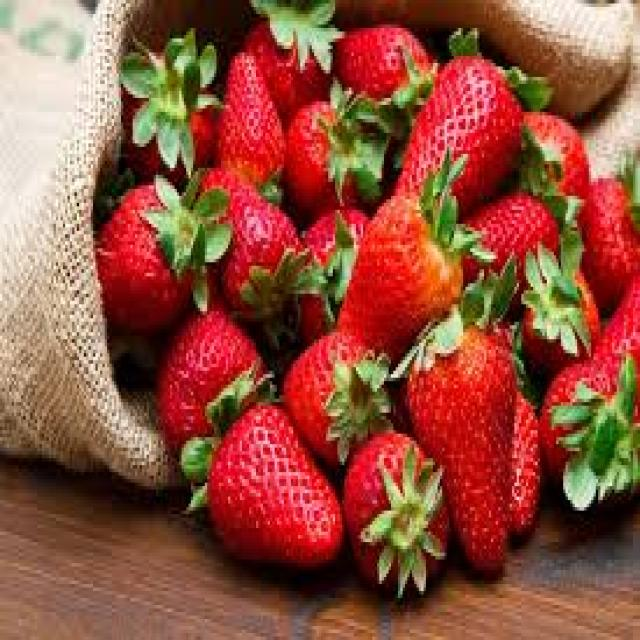strawberry: (411, 337, 520, 579), (198, 403, 346, 560), (390, 42, 519, 213), (341, 202, 448, 373), (204, 164, 319, 310), (96, 174, 209, 312)
